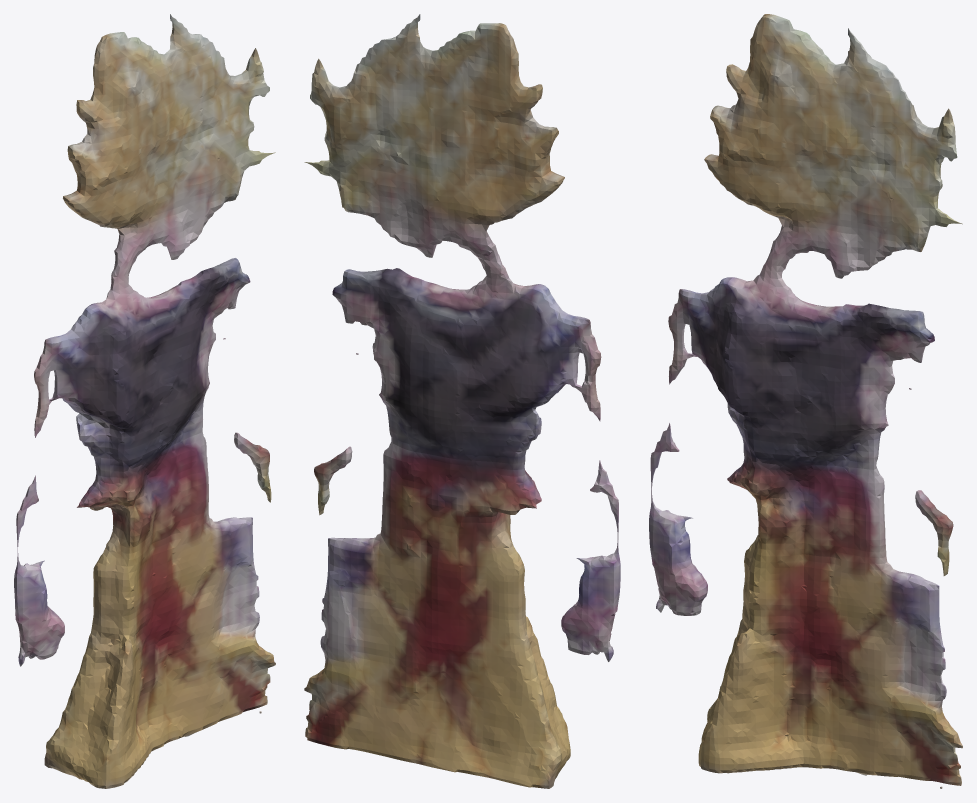
The model's file is model_raw.glb.
3 renders of one model, left to right at view 1: azimuth 30°, elevation 25°; view 2: azimuth 150°, elevation 25°; view 3: azimuth 330°, elevation 25°, orthographic. The views are drawn at different scales.
Visible parts, largest first — view 1: world; view 2: world; view 3: world.
Boxes of the visible parts, x1,y1,x2,y2 form: world: (14,14,275,788); world: (304,14,620,788); world: (649,14,962,788).
Size of the model in its own units: 0.8117 by 1.99 by 0.2601.
